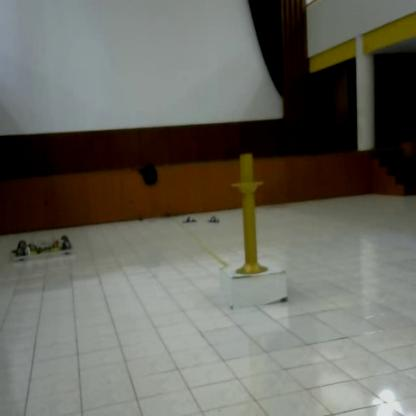pole: (232, 151, 275, 281)
